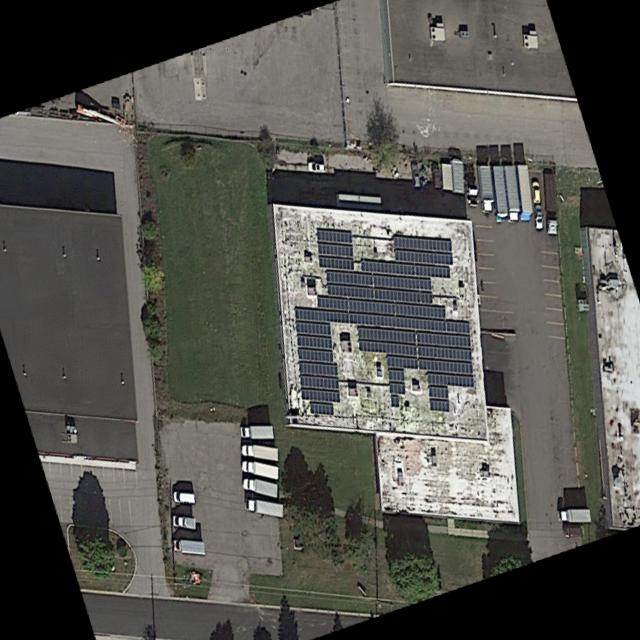large-vehicle: (541, 170, 559, 235), (500, 164, 520, 221), (489, 164, 507, 222), (514, 164, 532, 221), (475, 163, 494, 212), (240, 458, 277, 479), (244, 497, 281, 517), (241, 476, 275, 497), (240, 442, 277, 460), (172, 538, 204, 554), (556, 508, 590, 522), (238, 425, 272, 438), (171, 514, 194, 529), (430, 164, 439, 187)
small-vehicle: (171, 489, 195, 504), (532, 204, 543, 230), (529, 180, 540, 202), (304, 160, 323, 172), (410, 164, 419, 186)
